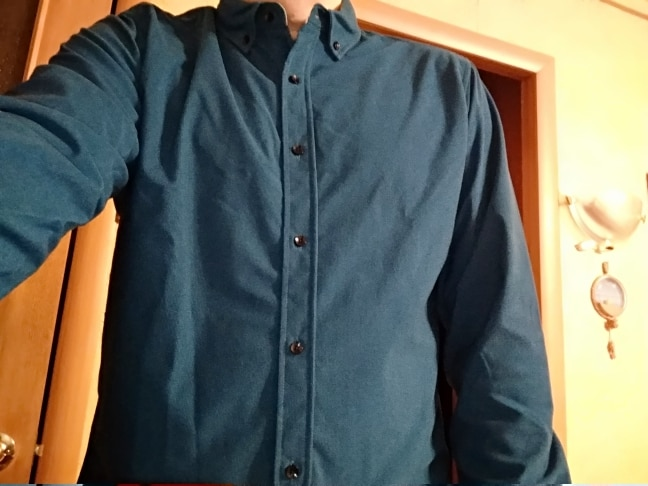shirts: (10, 5, 557, 486)
